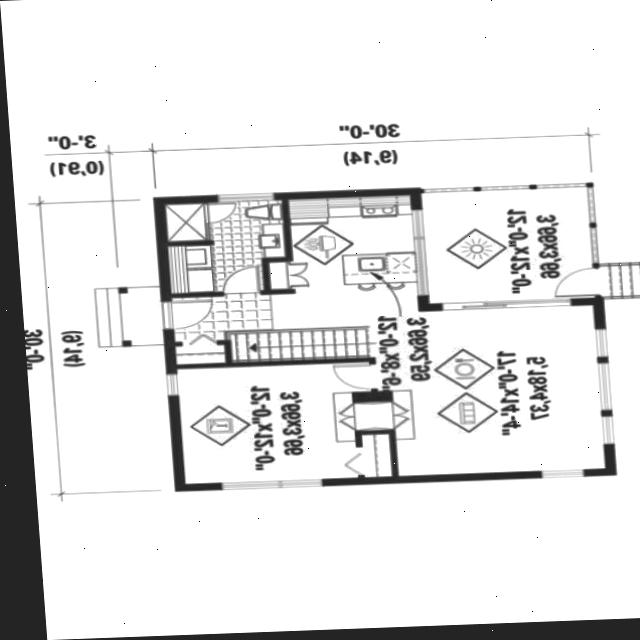room: (169, 188, 604, 482), (177, 361, 391, 482), (166, 199, 286, 292)
